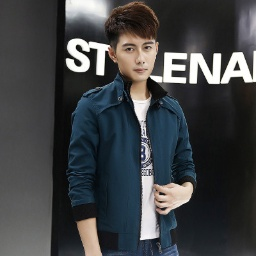face: (104, 1, 164, 83)
